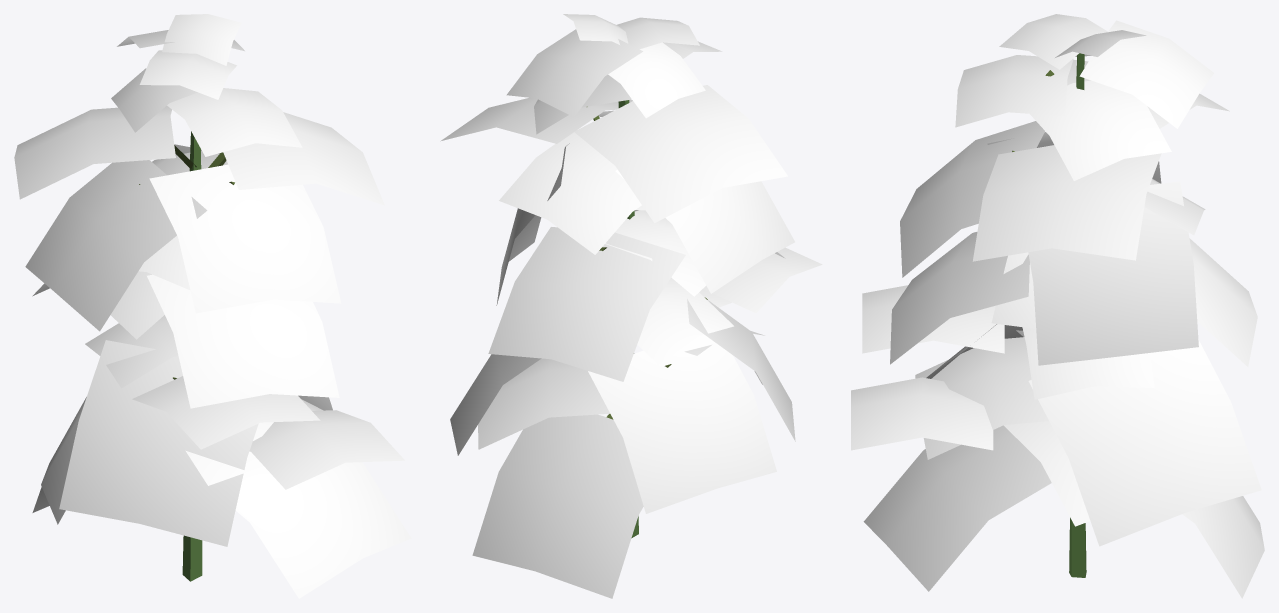
Rendered from hemp_plant.glb.
The picture shows the model from 3 angles, left to right: view 1: azimuth 30°, elevation 25°; view 2: azimuth 150°, elevation 25°; view 3: azimuth 270°, elevation 25°; orthographic projection. The views are drawn at different scales.
Visible parts, largest first — view 1: SM_Prop_Hemp_01_L; view 2: SM_Prop_Hemp_01_L; view 3: SM_Prop_Hemp_01_L.
Boxes of the visible parts, bbox=[...] form: SM_Prop_Hemp_01_L: bbox=[14, 14, 411, 598]; SM_Prop_Hemp_01_L: bbox=[440, 14, 822, 598]; SM_Prop_Hemp_01_L: bbox=[851, 14, 1264, 598].
Bounding box in the file's own units: 0.8042 × 1.23 × 0.8329.
2 materials, 2 textured.
